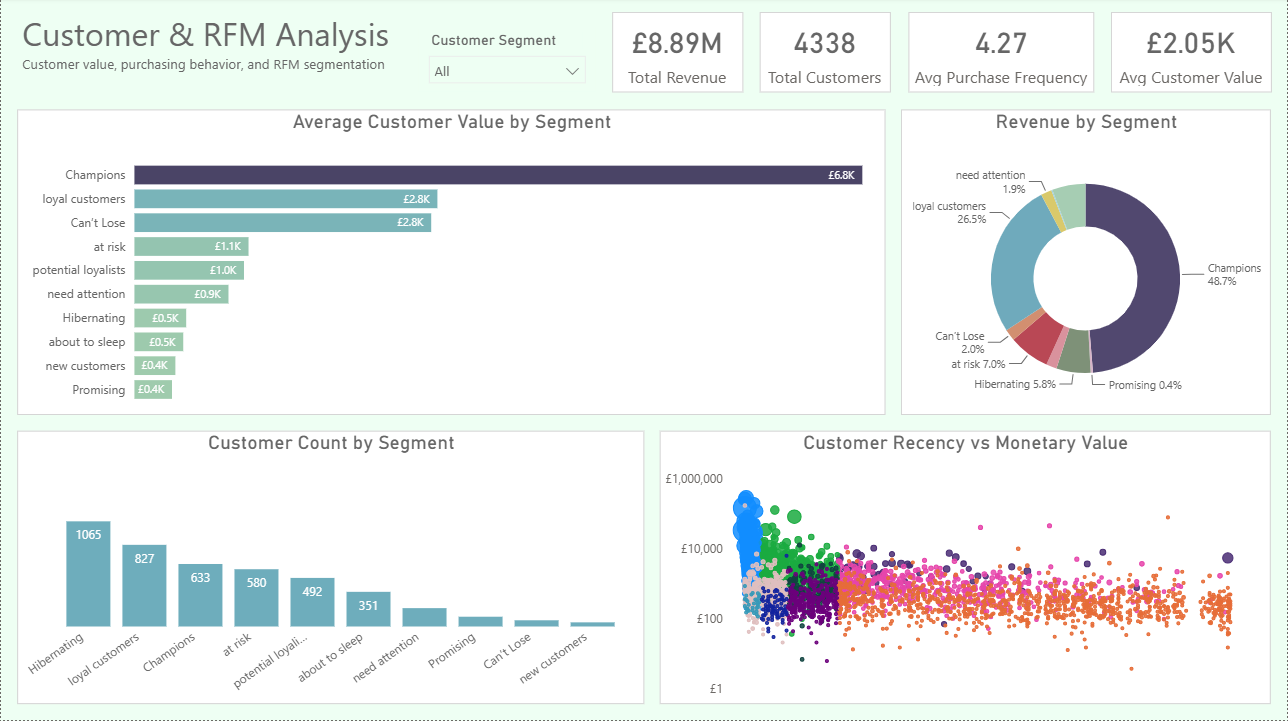

What the dashboard file says about the page in this screenshot:
{"tool":"powerbi","page":{"name":"Customer & RFM Analysis","canvas":[1280,720],"ordinal":1},"visuals":[{"type":"card","fields":{"Values":["cleaned_online_retail.Sales Total Revenue"]},"box":[608,15,130,80],"z":0},{"type":"scatterChart","title":"Customer Recency vs Monetary Value","fields":{"X":["final_rfm_segments.Recency"],"Y":["final_rfm_segments.Monetary"],"Size":["Avg(final_rfm_segments.Frequency)"],"Series":["final_rfm_segments.Segment Display"],"Category":["final_rfm_segments.CustomerID"]},"box":[656,432,608,272],"z":1000},{"type":"donutChart","title":"Revenue by Segment","fields":{"Category":["final_rfm_segments.Segment Display"],"Y":["final_rfm_segments.Total Revenue"]},"box":[896,112,368,304],"z":2000},{"type":"textbox","box":[16,10,400,80],"z":3000},{"type":"slicer","fields":{"Values":["final_rfm_segments.Segment"]},"box":[415,30,176,64],"z":5000},{"type":"card","fields":{"Values":["final_rfm_segments.Total Customers"]},"box":[755.3,15,130,80],"z":6000},{"type":"card","fields":{"Values":["final_rfm_segments.Average Monetary Value"]},"box":[1105,15,160,80],"z":7000},{"type":"card","fields":{"Values":["final_rfm_segments.Average Purchase Frequency"]},"box":[902.7,15,185,80],"z":8000},{"type":"clusteredBarChart","title":"Average Customer Value by Segment","fields":{"Category":["final_rfm_segments.Segment Display"],"Y":["final_rfm_segments.Average Monetary Value"]},"box":[16,112,864,304],"z":9000},{"type":"clusteredColumnChart","title":"Customer Count by Segment","fields":{"Category":["final_rfm_segments.Segment Display"],"Y":["final_rfm_segments.Total Customers"]},"box":[16,432,624,272],"z":10000}]}

Visuals, with their boxes in screenshot pixels (x1, y1, x2, y2), scaled from the page's 1280x720 canvas onto the 1288x721 screenshot:
card - cleaned_online_retail.Sales Total Revenue: Rect(612, 15, 743, 95)
"Customer Recency vs Monetary Value" scatterChart: Rect(660, 433, 1272, 705)
"Revenue by Segment" donutChart: Rect(902, 112, 1272, 417)
textbox: Rect(16, 10, 419, 90)
slicer - final_rfm_segments.Segment: Rect(418, 30, 595, 94)
card - final_rfm_segments.Total Customers: Rect(760, 15, 891, 95)
card - final_rfm_segments.Average Monetary Value: Rect(1112, 15, 1273, 95)
card - final_rfm_segments.Average Purchase Frequency: Rect(908, 15, 1094, 95)
"Average Customer Value by Segment" clusteredBarChart: Rect(16, 112, 886, 417)
"Customer Count by Segment" clusteredColumnChart: Rect(16, 433, 644, 705)
